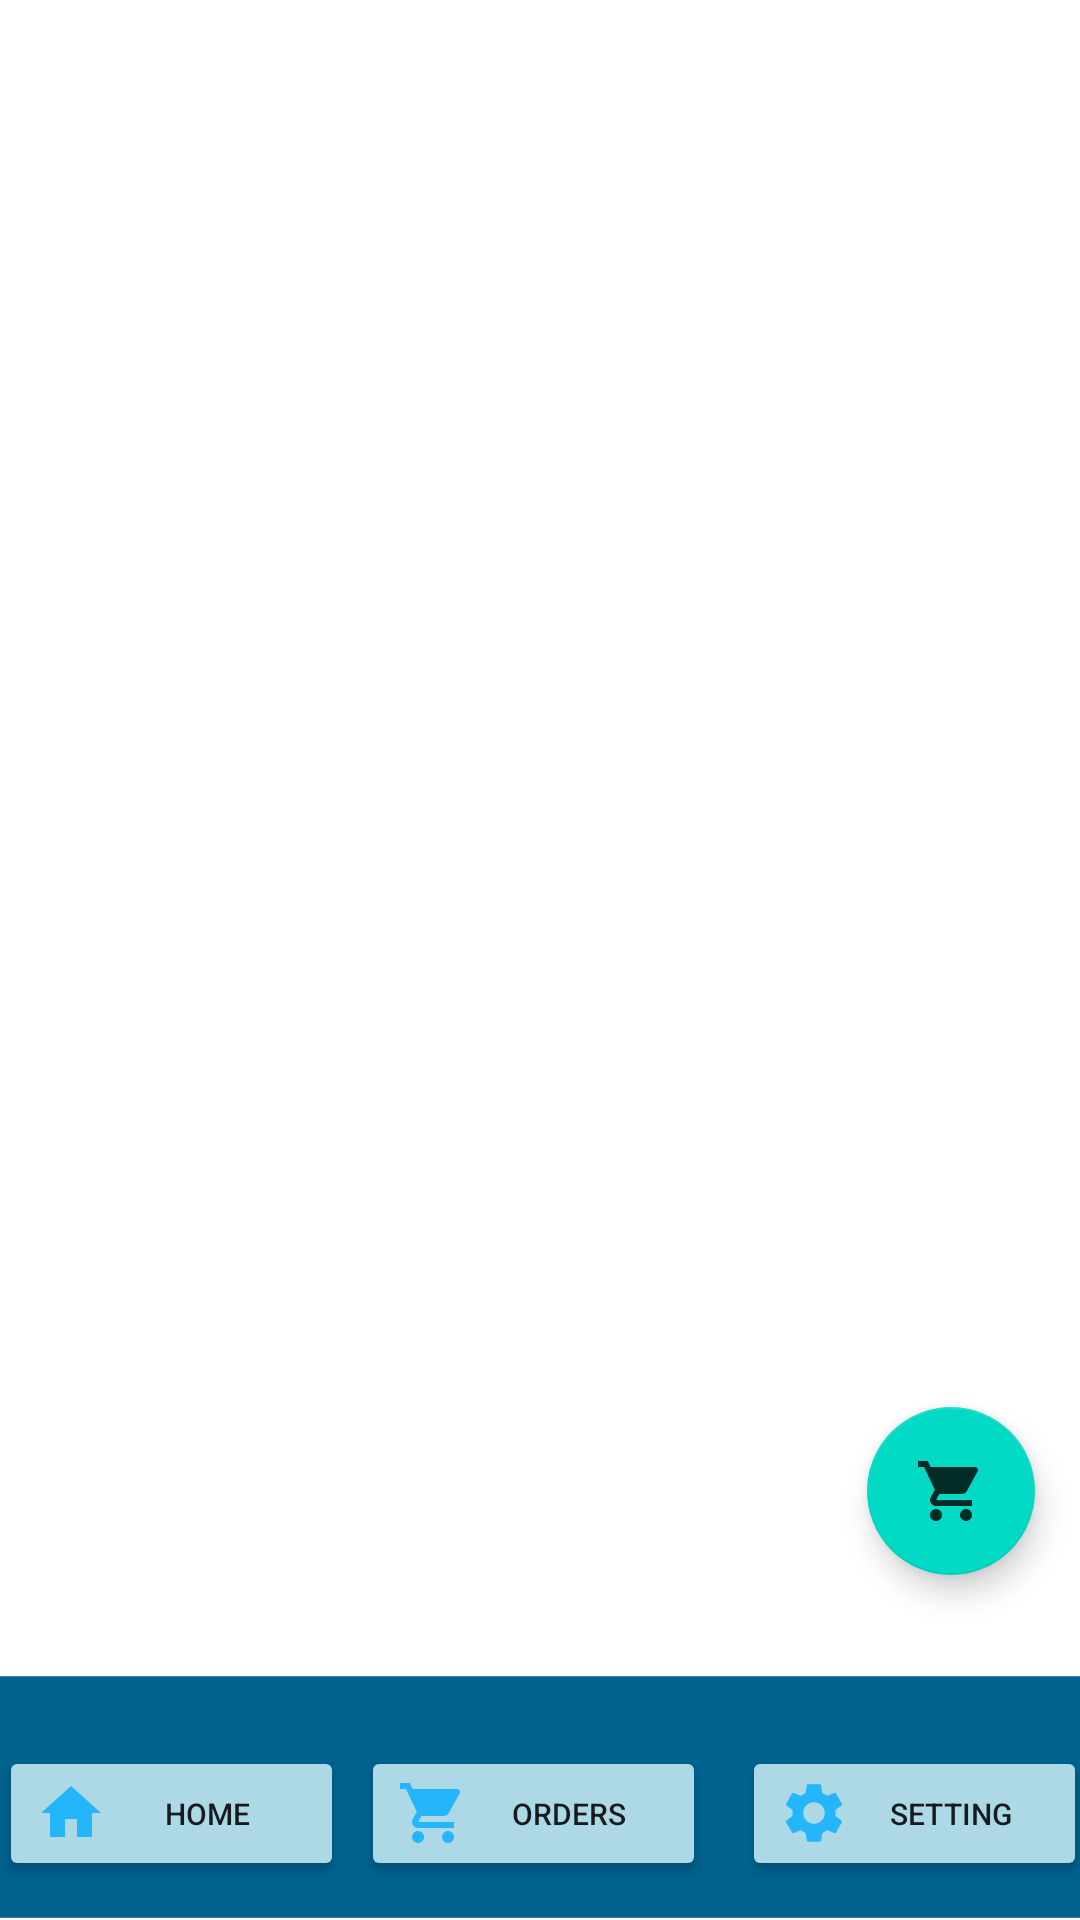

Where to tap for icons on this 1080px x 1920px app screen, as (x,y):
shopping cart: (951,1491)
